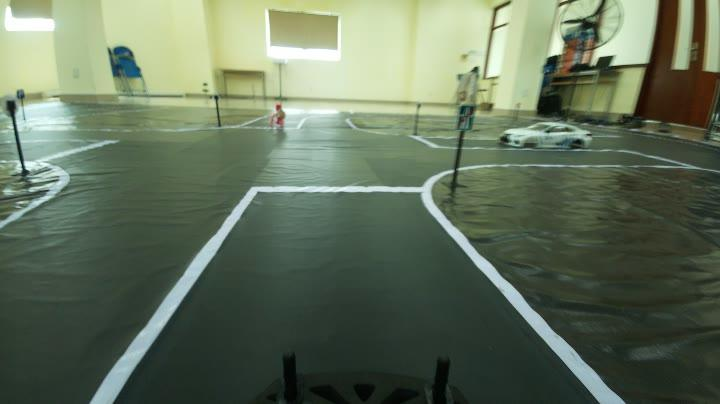highway_exit: (454, 102, 480, 136)
